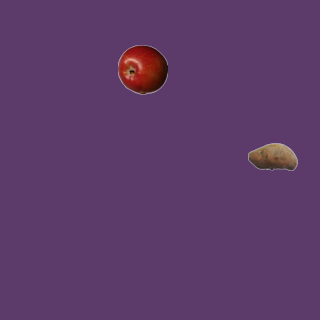Apple Braeburn: (117, 44, 167, 94)
Potato Sweet: (247, 131, 297, 181)
